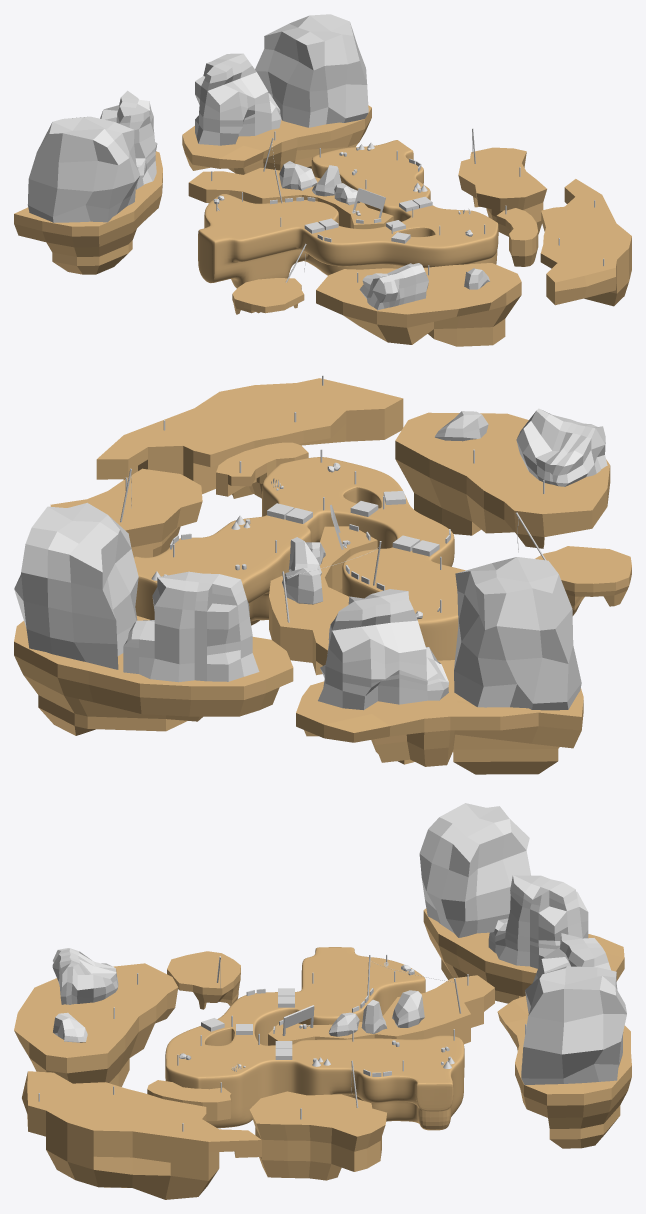
File: Sala2.fbx
3 renders of one model, top to bottom at view 1: azimuth 30°, elevation 25°; view 2: azimuth 150°, elevation 25°; view 3: azimuth 270°, elevation 25°, orthographic. The views are drawn at different scales.
Parts seen in each view (by area): view 1: Base 1-2, Cube.016, Roca 2, Roca 2.001, Cube.019, Cube.022, Cube.017, Roca.002, Cube.021, Cube.015, Roca.001, Roca 3 (+4 smaller); view 2: Base 1-2, Cube.019, Cube.016, Roca 2.001, Cube.022, Roca 2, Cube.017, Roca.002, Roca.001, Cube.021, Cube.015, Roca 3 (+5 smaller); view 3: Base 1-2, Cube.019, Cube.016, Roca 2.001, Roca 2, Cube.021, Cube.017, Roca.001, Cube.015, Cube.022, Cube.020, Roca 3 (+6 smaller).
Boxes of the visible parts, bbox=[...] form: Base 1-2: bbox=[198, 140, 498, 288]; Cube.016: bbox=[316, 263, 521, 346]; Roca 2: bbox=[255, 14, 368, 127]; Roca 2.001: bbox=[27, 116, 139, 222]; Cube.019: bbox=[540, 179, 631, 306]; Cube.022: bbox=[14, 151, 162, 274]; Cube.017: bbox=[182, 105, 371, 174]; Roca.002: bbox=[195, 53, 281, 145]; Cube.021: bbox=[458, 147, 546, 236]; Cube.015: bbox=[188, 168, 393, 228]; Roca.001: bbox=[100, 90, 157, 189]; Roca 3: bbox=[359, 263, 428, 310]; Base 1-2: bbox=[134, 457, 465, 660]; Cube.019: bbox=[96, 378, 403, 498]; Cube.016: bbox=[395, 412, 610, 548]; Roca 2.001: bbox=[454, 557, 581, 710]; Cube.022: bbox=[296, 660, 583, 774]; Roca 2: bbox=[14, 502, 138, 669]; Cube.017: bbox=[14, 616, 293, 735]; Roca.002: bbox=[123, 571, 259, 682]; Roca.001: bbox=[318, 589, 448, 710]; Cube.021: bbox=[50, 468, 202, 557]; Cube.015: bbox=[269, 526, 377, 675]; Roca 3: bbox=[516, 408, 607, 486]; Base 1-2: bbox=[165, 947, 464, 1130]; Cube.019: bbox=[22, 1071, 261, 1199]; Cube.016: bbox=[14, 963, 178, 1086]; Roca 2.001: bbox=[419, 803, 530, 937]; Roca 2: bbox=[521, 966, 626, 1084]; Cube.021: bbox=[249, 1091, 386, 1180]; Cube.017: bbox=[497, 996, 631, 1148]; Roca.001: bbox=[488, 875, 588, 968]; Cube.015: bbox=[268, 975, 494, 1045]; Cube.022: bbox=[423, 908, 624, 1003]; Cube.020: bbox=[167, 951, 240, 1009]; Roca 3: bbox=[52, 948, 118, 1004].
Bounding box in the file's own units: 44838 × 44586 × 13523.
